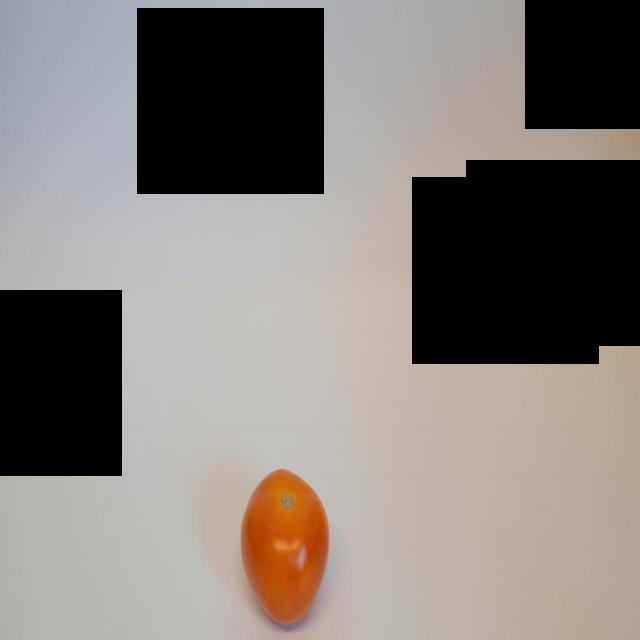tomato: (237, 465, 332, 628)
